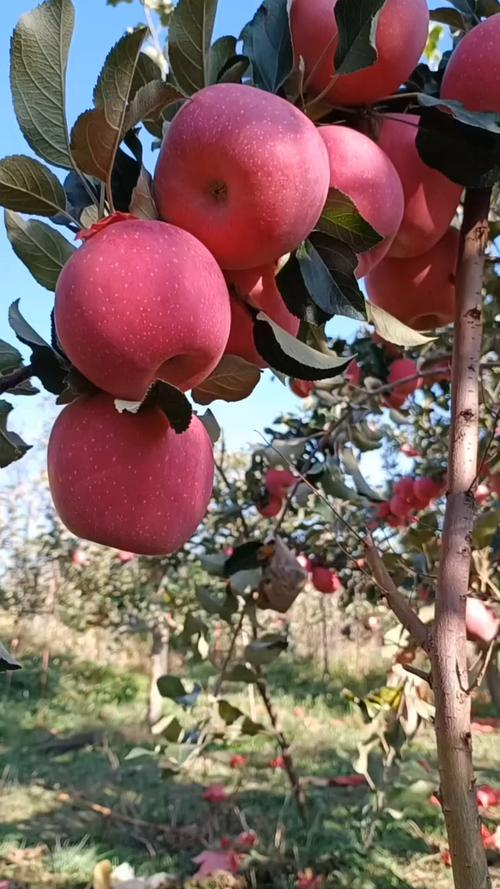ripe: (41, 204, 243, 404), (152, 79, 331, 272), (43, 388, 218, 553), (347, 95, 485, 259), (313, 116, 417, 297), (279, 0, 431, 118), (361, 220, 483, 340)
